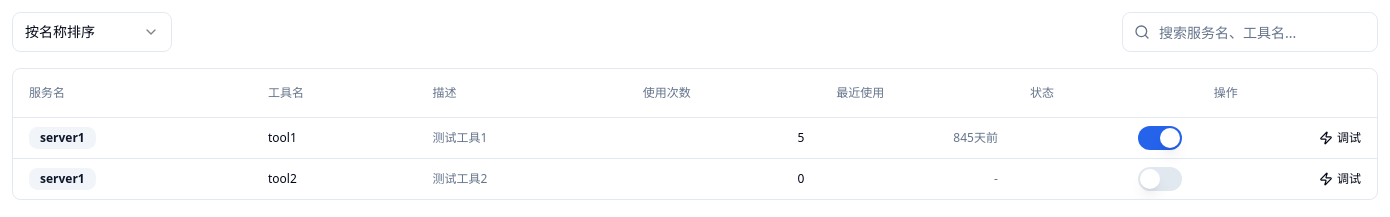
it: McpToolTable › 搜索功能 › 输入搜索关键词应该过滤工具列表
The width and height of the screenshot is (1390, 217).
expect the text "server1" in the row of "tool1" is shown: met, box [40, 129, 85, 146]
Note:  输入搜索关键词
Type "tool1" into the field with placeholder "搜索服务名、工具名..." at (1250, 32), box [1122, 12, 1378, 52]
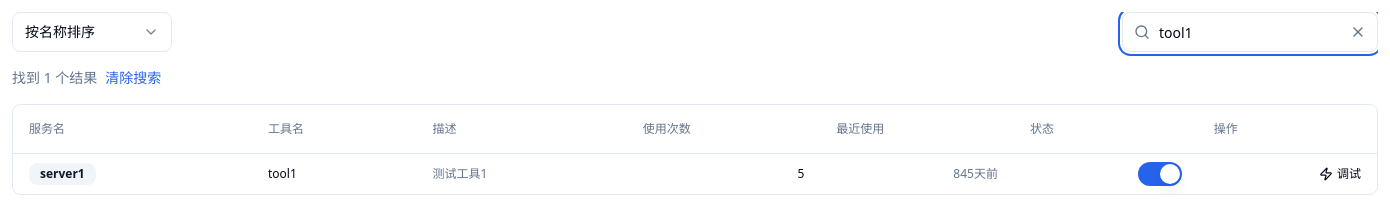
expect the text "找到 1 个结果 清除搜索" is shown: met, box [12, 68, 161, 88]
